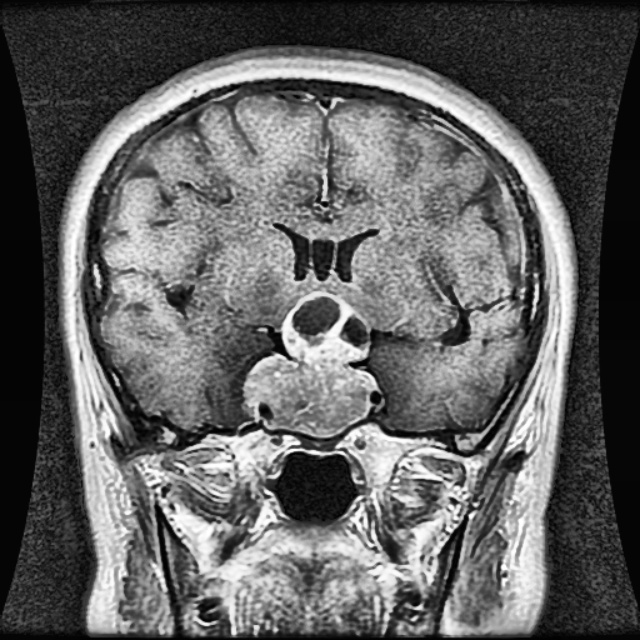Pituitary: (243, 292, 374, 434)
